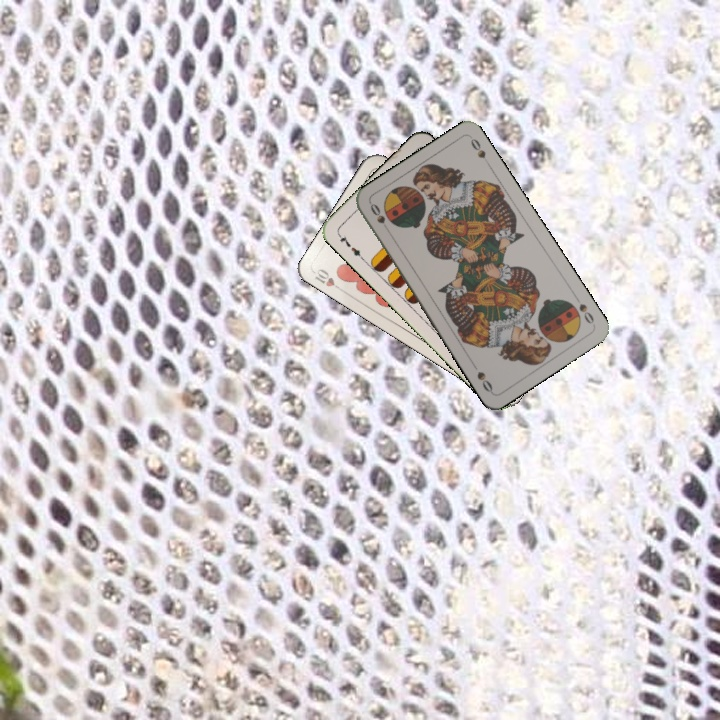E7: (334, 229, 366, 262)
H10: (311, 265, 346, 295)
SO: (366, 199, 393, 236), (570, 291, 597, 327)
